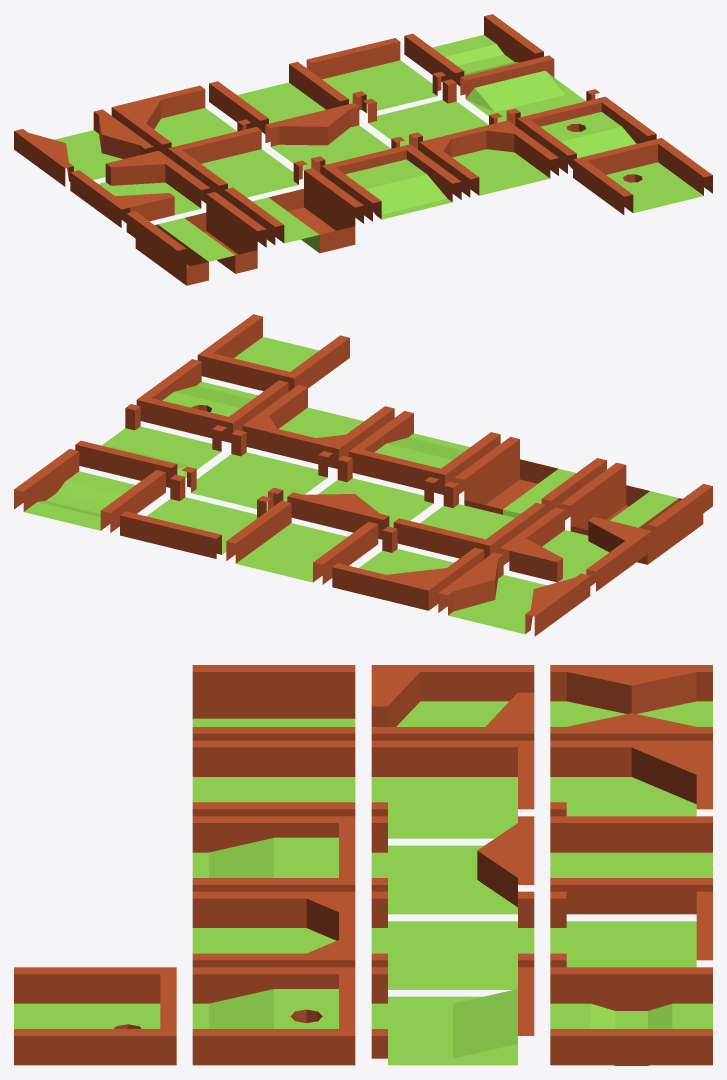
The model's file is course_parts.dae.
3 renders of one model, top to bottom at view 1: azimuth 30°, elevation 25°; view 2: azimuth 150°, elevation 25°; view 3: azimuth 270°, elevation 25°, orthographic. The views are drawn at different scales.
Visible parts, largest first — view 1: bridgelane, hole2, capflat, cap, ziglane, pondlane, Tplain, cornersharp, hole1, skinnylane, Thill, Tsplit (+4 smaller); view 2: ziglane, skinnylane, lane, bridgelane, diplane, hole2, pondlane, hole1, capflat, cap, cornerbevel, Tplain (+4 smaller); view 3: hole1, diplane, hole2, lane, cornersharp, capflat, pondlane, bridgelane, cap, ziglane, cornerbevel, skinnylane (+4 smaller).
Part boxes in pixels (<box>): bridgelane: <box>126,192,266,285</box>; hole2: <box>573,138,712,214</box>; capflat: <box>419,120,558,197</box>; cap: <box>321,144,461,221</box>; ziglane: <box>70,150,210,227</box>; pondlane: <box>224,168,363,253</box>; Tplain: <box>306,38,445,113</box>; cornersharp: <box>168,127,307,197</box>; hole1: <box>516,96,656,173</box>; skinnylane: <box>14,109,153,186</box>; Thill: <box>460,55,599,126</box>; Tsplit: <box>265,103,404,173</box>; ziglane: <box>499,507,651,591</box>; skinnylane: <box>438,552,590,636</box>; lane: <box>226,500,378,584</box>; bridgelane: <box>561,462,712,564</box>; diplane: <box>14,449,165,532</box>; hole2: <box>197,314,349,391</box>; pondlane: <box>454,436,606,517</box>; hole1: <box>136,359,288,442</box>; capflat: <box>242,385,394,468</box>; cap: <box>348,411,500,494</box>; cornerbevel: <box>332,526,484,610</box>; Tplain: <box>120,474,271,558</box>; hole1: <box>192,967,355,1065</box>; diplane: <box>550,967,712,1065</box>; hole2: <box>14,967,176,1065</box>; lane: <box>550,816,712,914</box>; cornersharp: <box>371,740,534,838</box>; capflat: <box>192,891,355,967</box>; pondlane: <box>192,740,355,816</box>; bridgelane: <box>192,665,355,740</box>; cap: <box>192,816,355,891</box>; ziglane: <box>371,665,534,740</box>; cornerbevel: <box>550,740,712,816</box>; skinnylane: <box>550,665,712,740</box>.
Bounding box in the file's own units: 10.8 × 8.6 × 0.8.
1 material, 1 textured.
